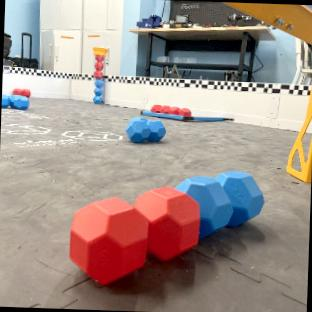V5_BLUE: (178, 171, 264, 237), (127, 118, 164, 142), (2, 94, 29, 110), (93, 80, 103, 103)
V5_RED: (69, 186, 200, 284), (151, 105, 191, 116), (94, 58, 104, 77), (14, 89, 29, 96)
